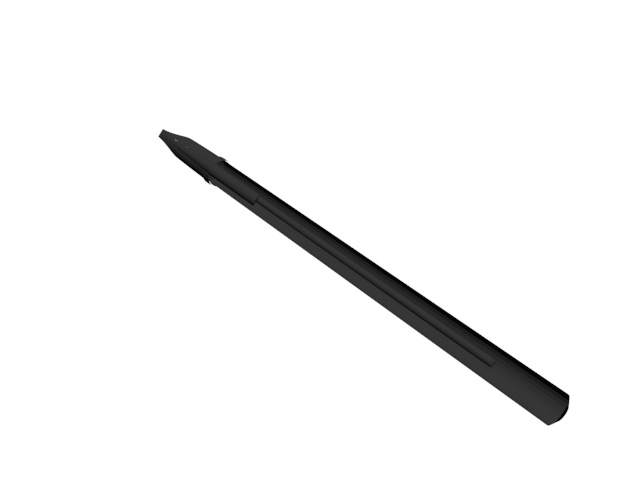pen: (153, 129, 576, 432)
